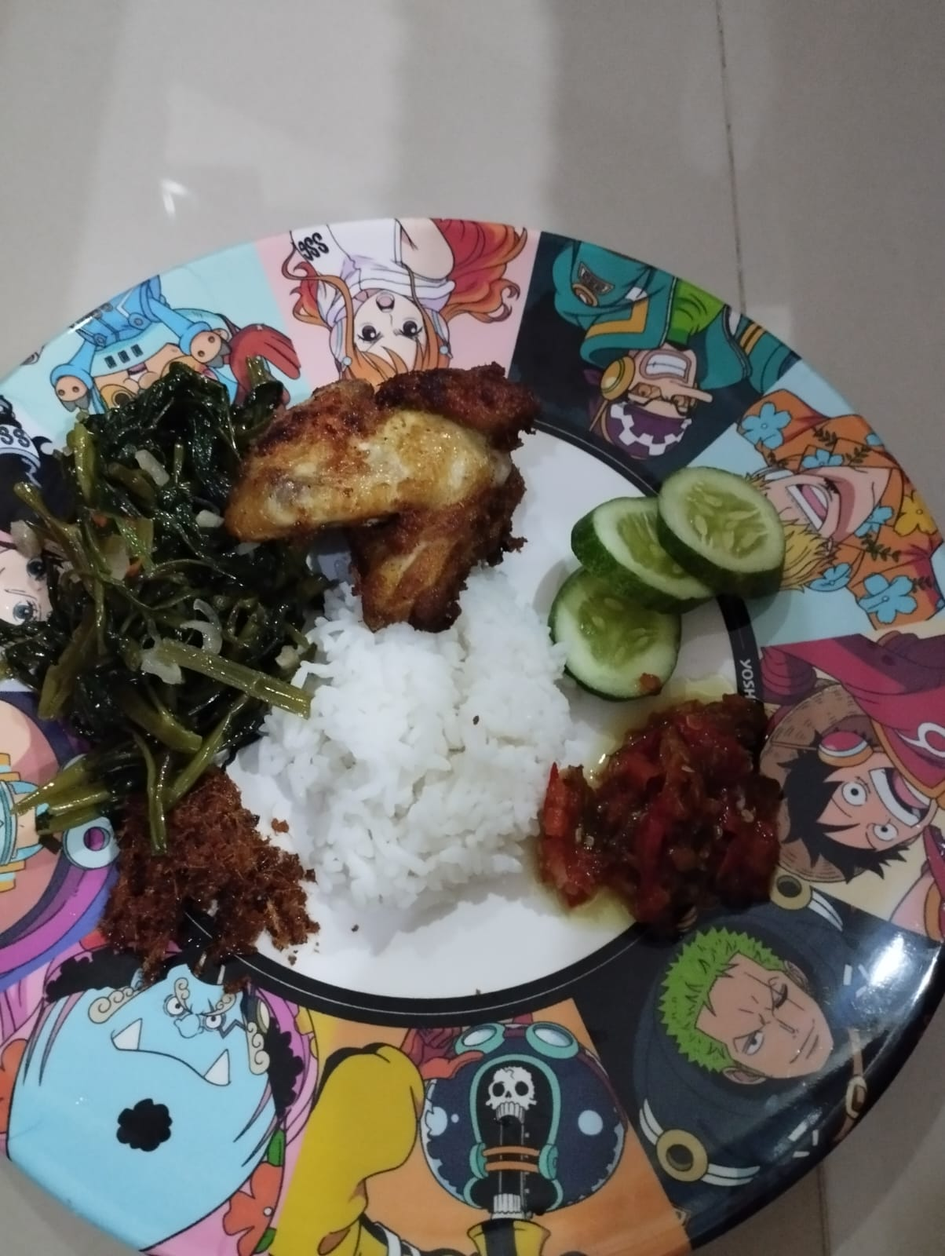buah_sayur_lainnya: (28, 399, 251, 783), (570, 468, 772, 697)
daging: (207, 374, 521, 586)
makanan_berpati: (295, 641, 549, 940)
